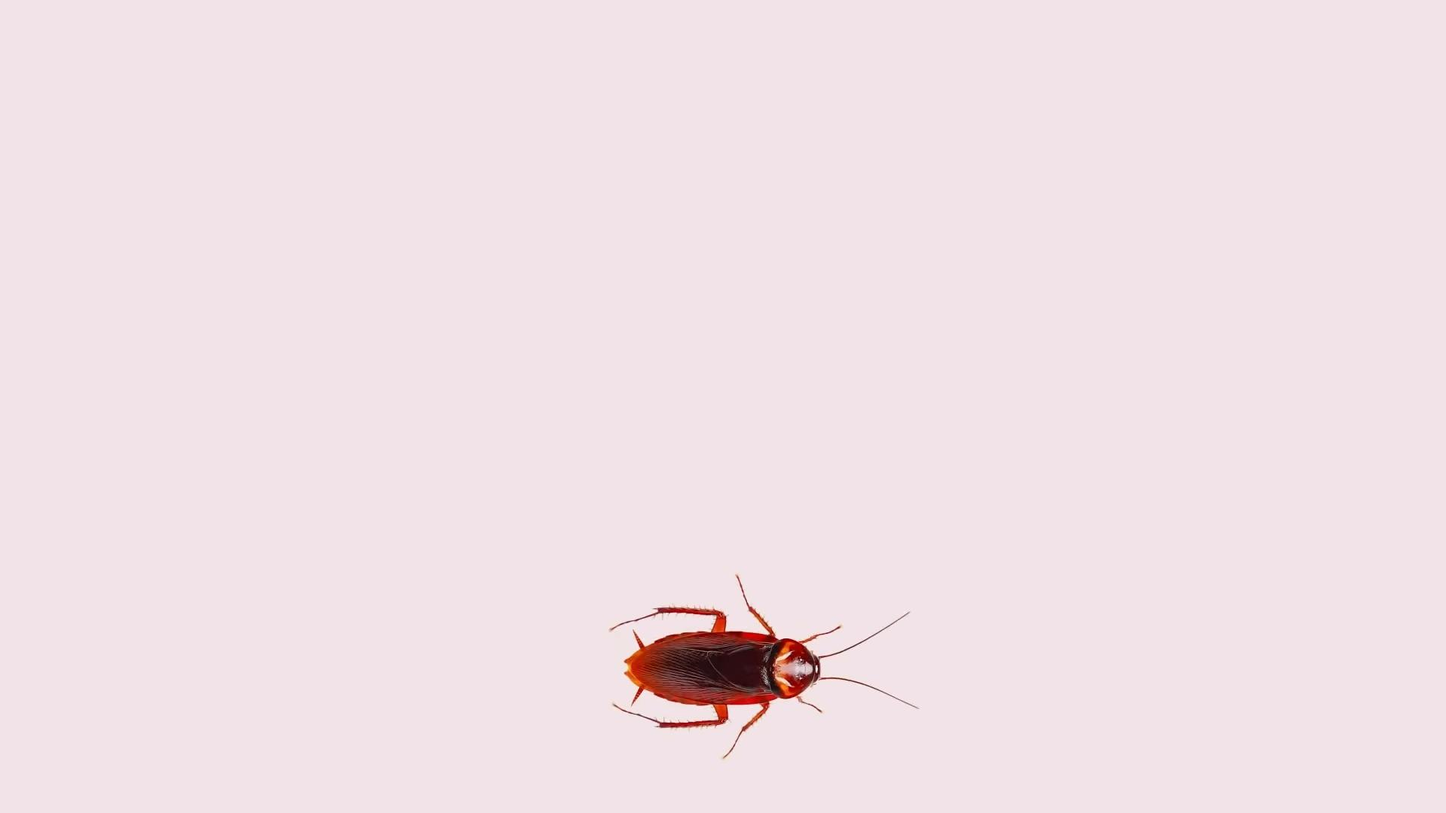cockroach: (566, 563, 933, 761)
